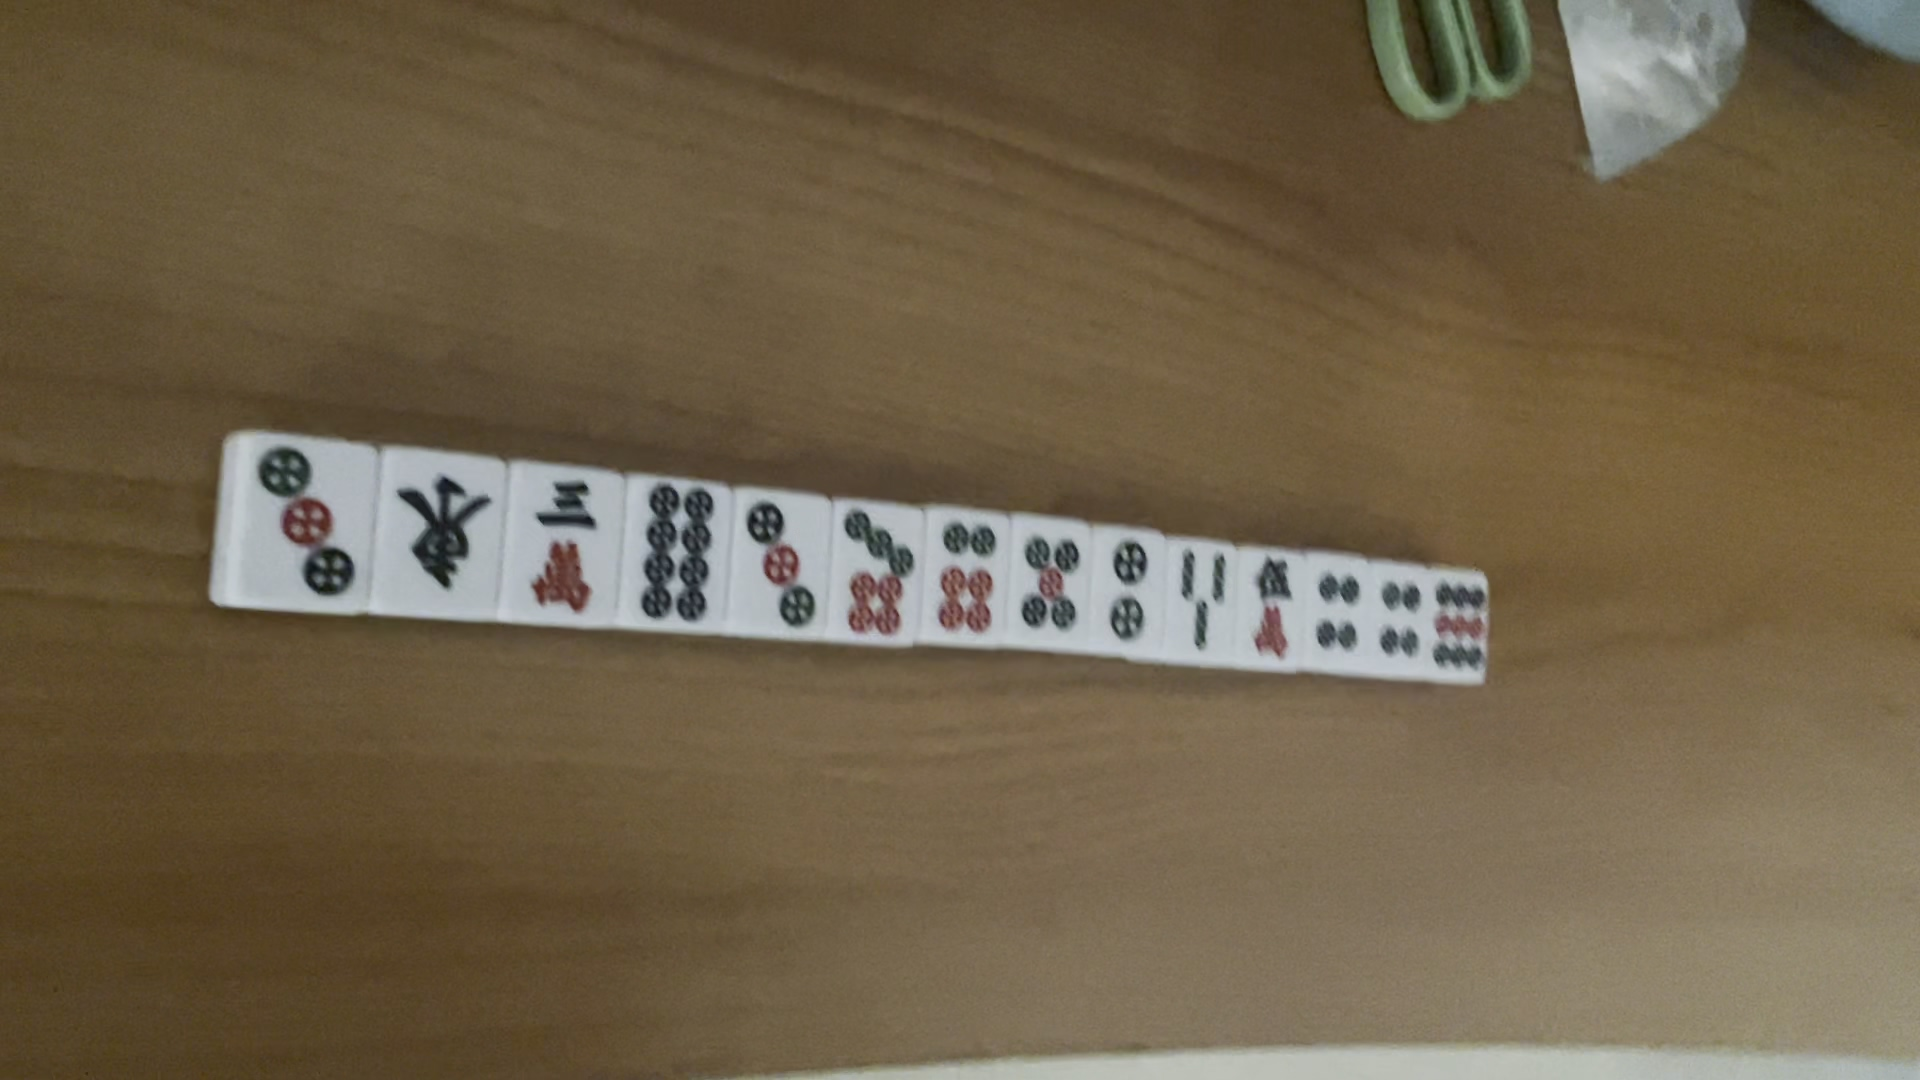b-3: (1171, 545, 1232, 659)
c-3: (516, 475, 609, 612)
c-5: (1247, 554, 1294, 662)
d-2: (1098, 533, 1153, 647)
d-3: (248, 438, 357, 608), (745, 496, 820, 634)
d-4: (1371, 572, 1425, 667), (1305, 568, 1362, 655)
d-5: (1019, 525, 1087, 641)
d-6: (934, 512, 996, 634)
d-7: (839, 502, 919, 640)
d-8: (632, 483, 717, 630)
d-9: (1429, 572, 1489, 683)
honors-east: (389, 469, 497, 597)
